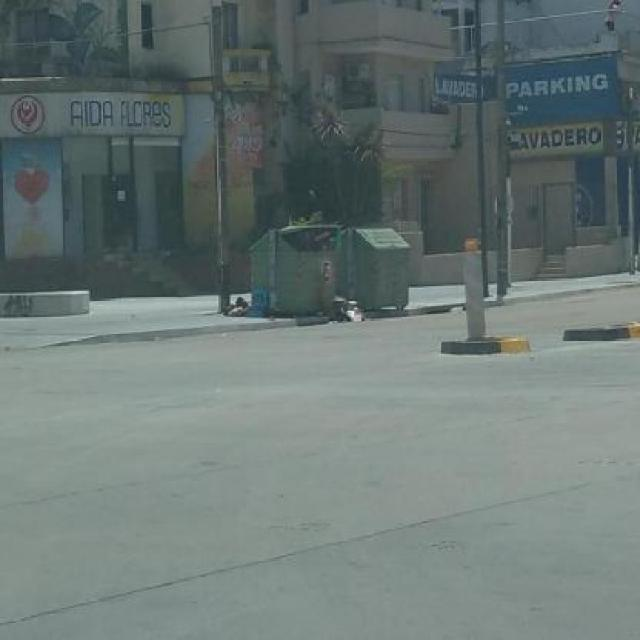garbage: (299, 226, 355, 259), (222, 288, 273, 318), (328, 294, 370, 326)
